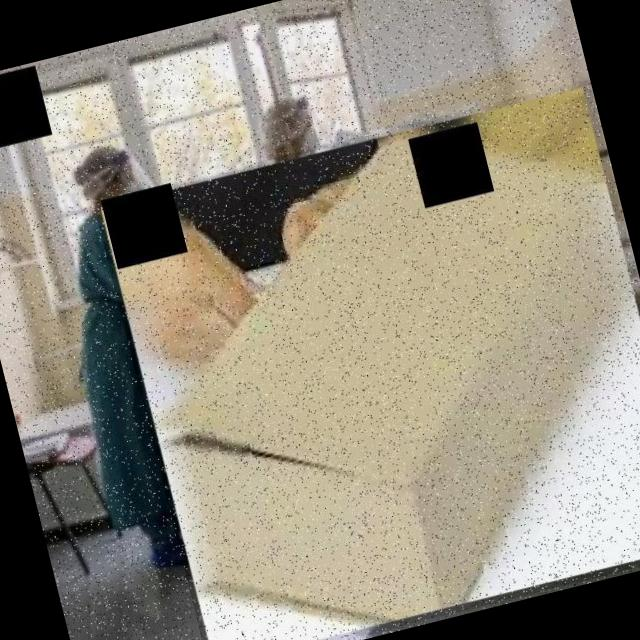box: (93, 79, 640, 640)
